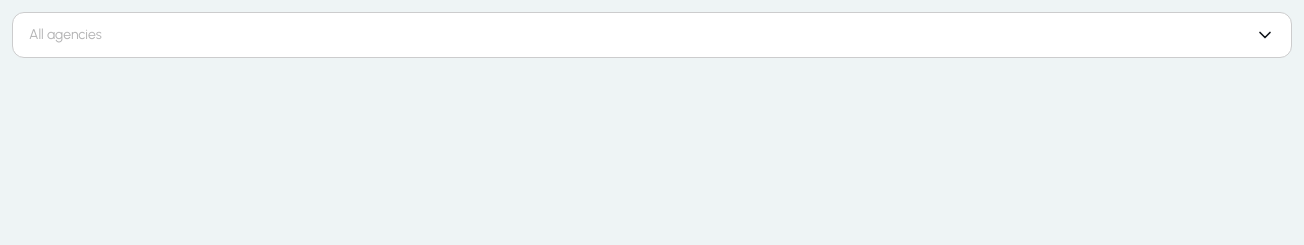
Test case: SearchSelect › opens when scrollIntoView is unavailable
The image size is (1304, 245).
Click the button "All agencies": (65, 34) top-left (12, 12), bottom-right (1292, 58)
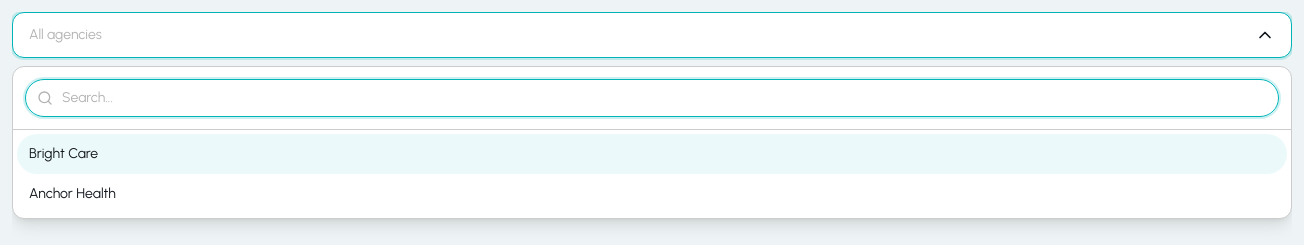
Result: the button "Bright Care" is shown at top-left (17, 134), bottom-right (1287, 174)
